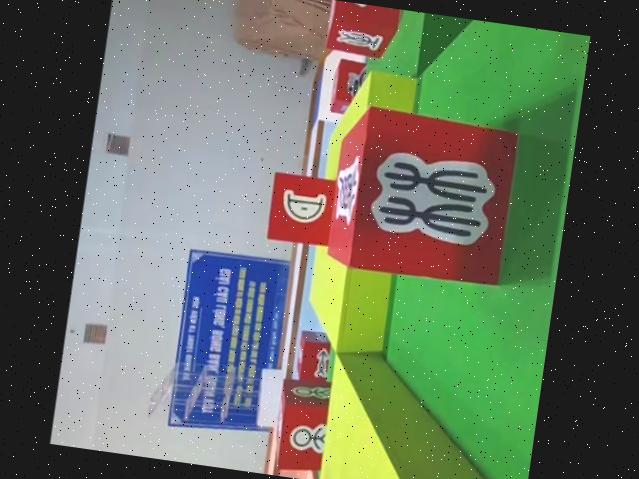R1: (329, 57, 375, 116)
R2 Fake: (324, 102, 523, 288), (325, 0, 401, 59)
R2 Real: (270, 380, 342, 476), (265, 171, 343, 249), (295, 332, 342, 388)
